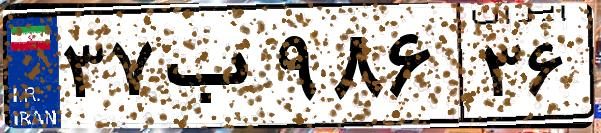3: (57, 26, 110, 100), (475, 38, 525, 113)
6: (385, 28, 445, 110), (525, 38, 570, 115)
7: (110, 28, 158, 98)
8: (330, 28, 385, 110)
9: (270, 28, 330, 110)
ب: (158, 20, 270, 120)
